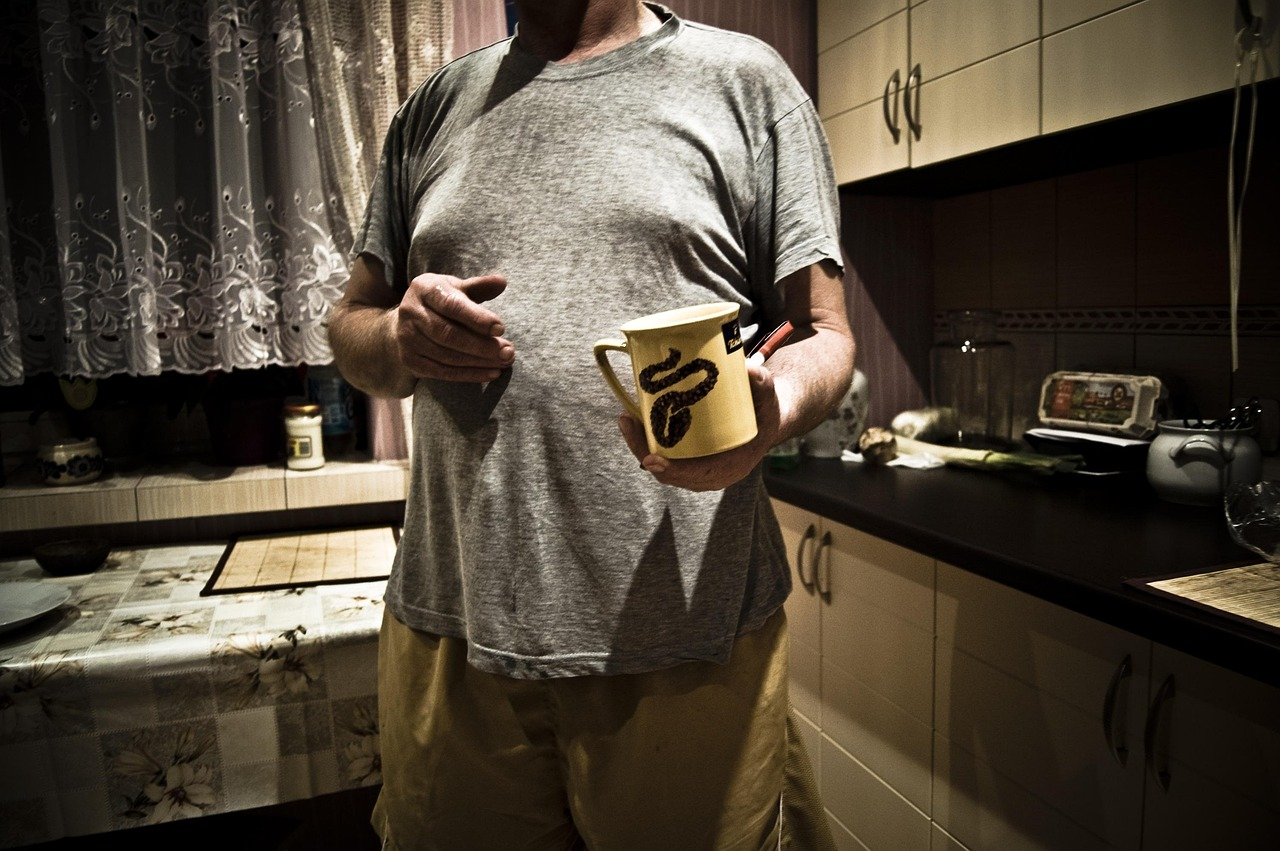mug: (557, 275, 789, 558)
